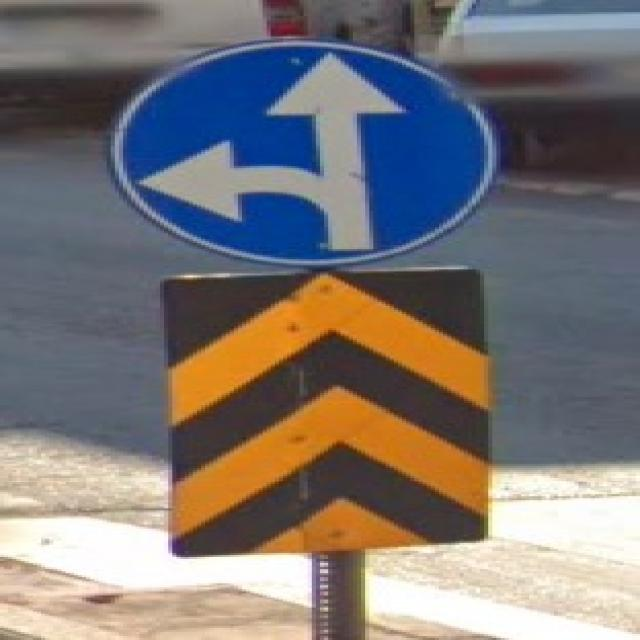Straight or Left: (112, 41, 501, 266)
